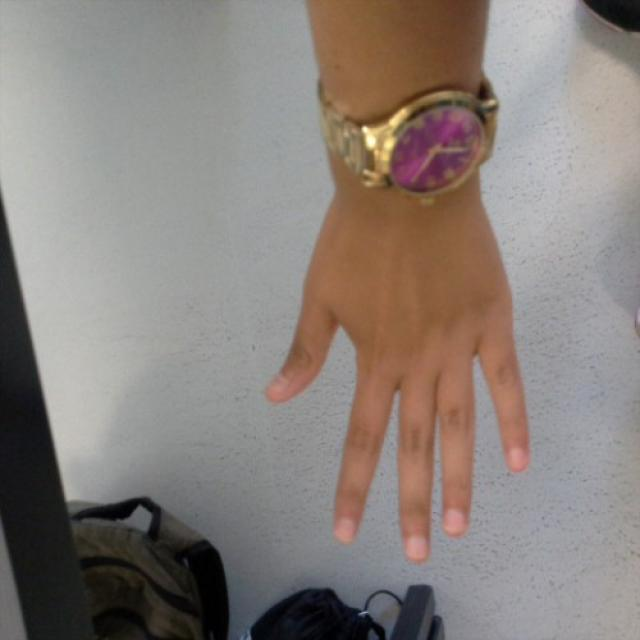paper: (261, 194, 534, 566)
